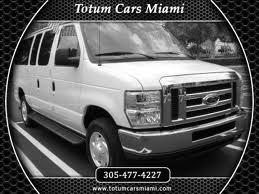car: (14, 21, 245, 173)
